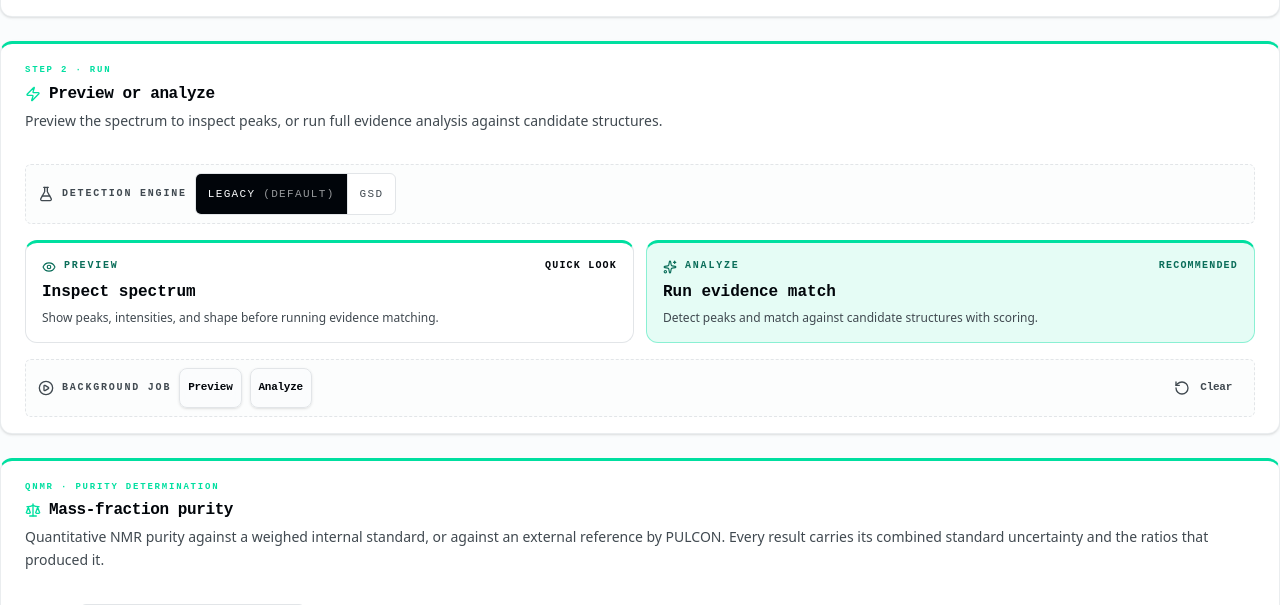
Scenario: SpectraCheck preview rendering › renders processed preview spectra without the empty placeholder
Earlier steps of the test are not shown.
(page scrolled)
What coordinates should you click on to do the following:
click the button "Inspect spectrum"
I would click on:
 (91, 266)
Its box is [25, 240, 634, 343].
(page scrolled)
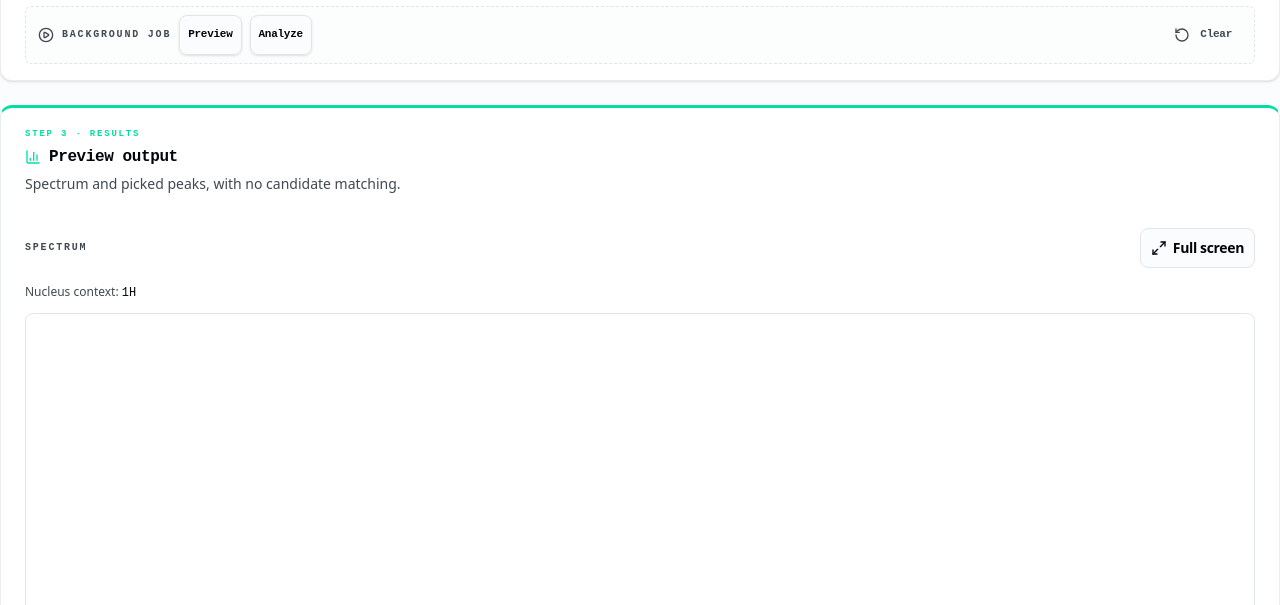
Expected: the text "Nucleus context: 1H" is shown, [25, 283, 136, 300]
